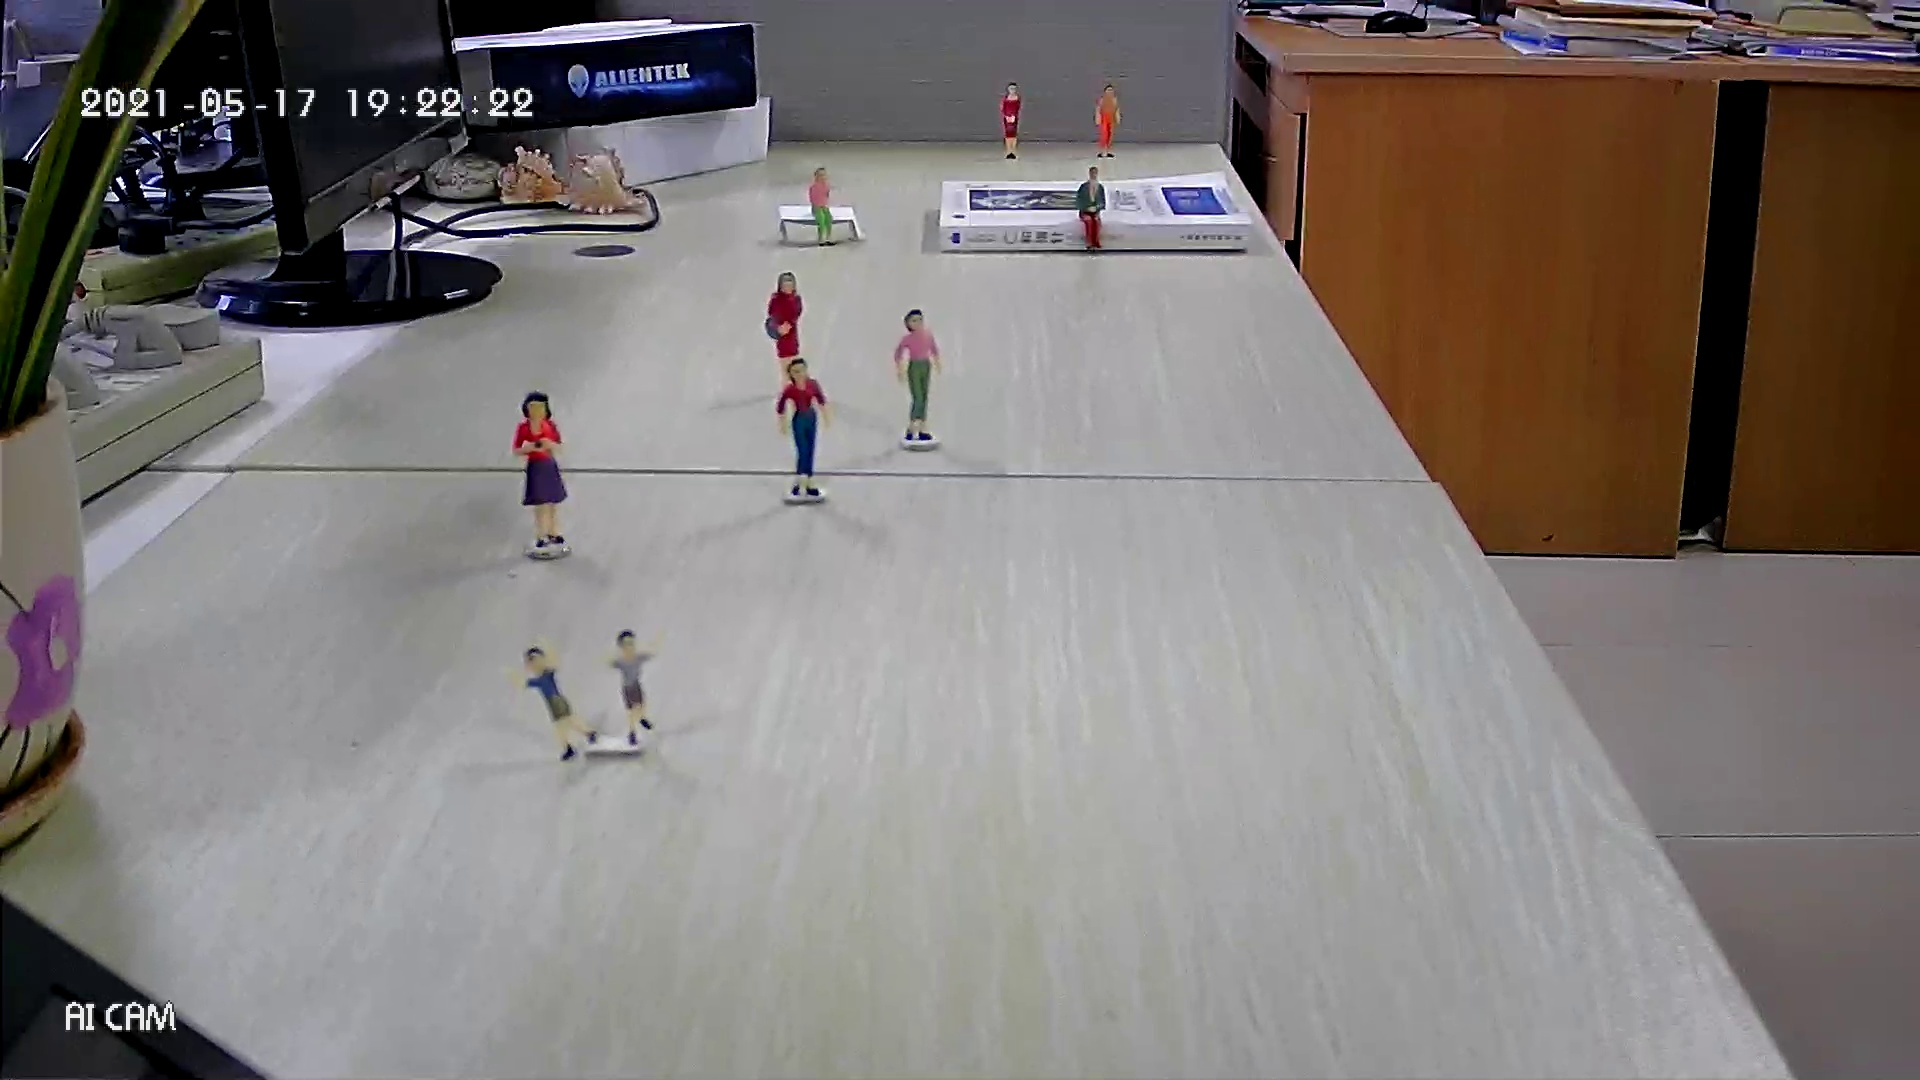person: (497, 638, 601, 766), (509, 388, 571, 552), (587, 624, 667, 750), (773, 356, 833, 502), (891, 306, 949, 442), (763, 268, 807, 404), (803, 160, 839, 252), (1075, 164, 1109, 258), (1095, 80, 1123, 162), (999, 78, 1025, 164)
